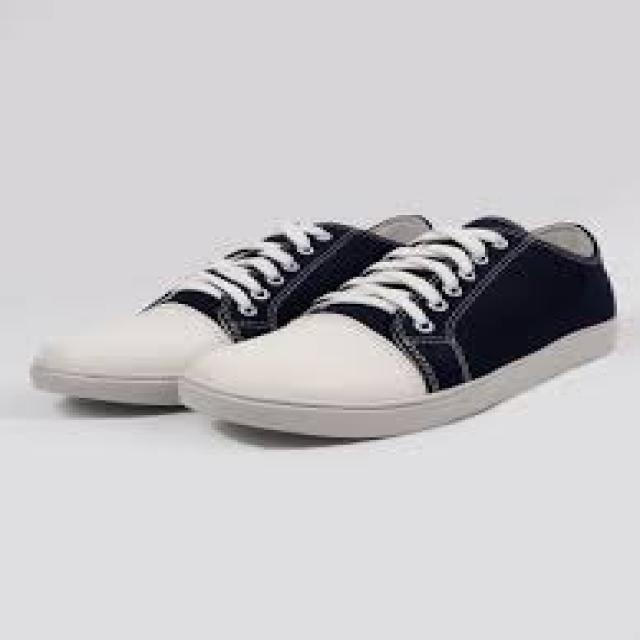shoe: (177, 216, 620, 442), (26, 212, 433, 411)
